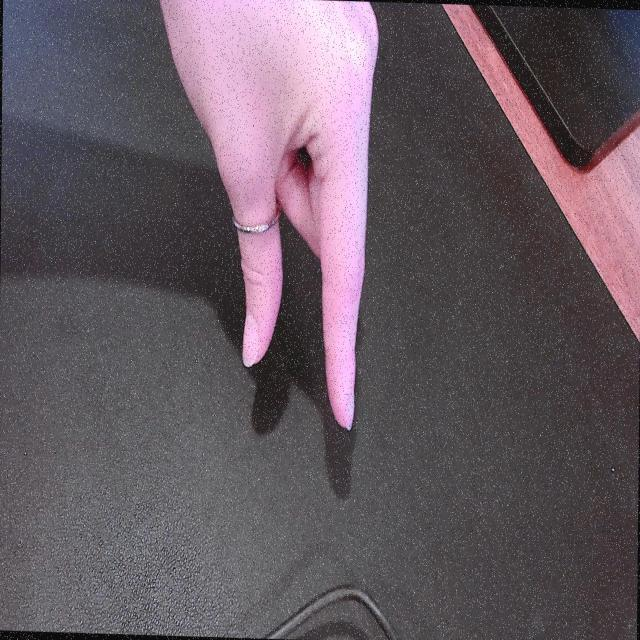Q: (155, 0, 383, 436)
